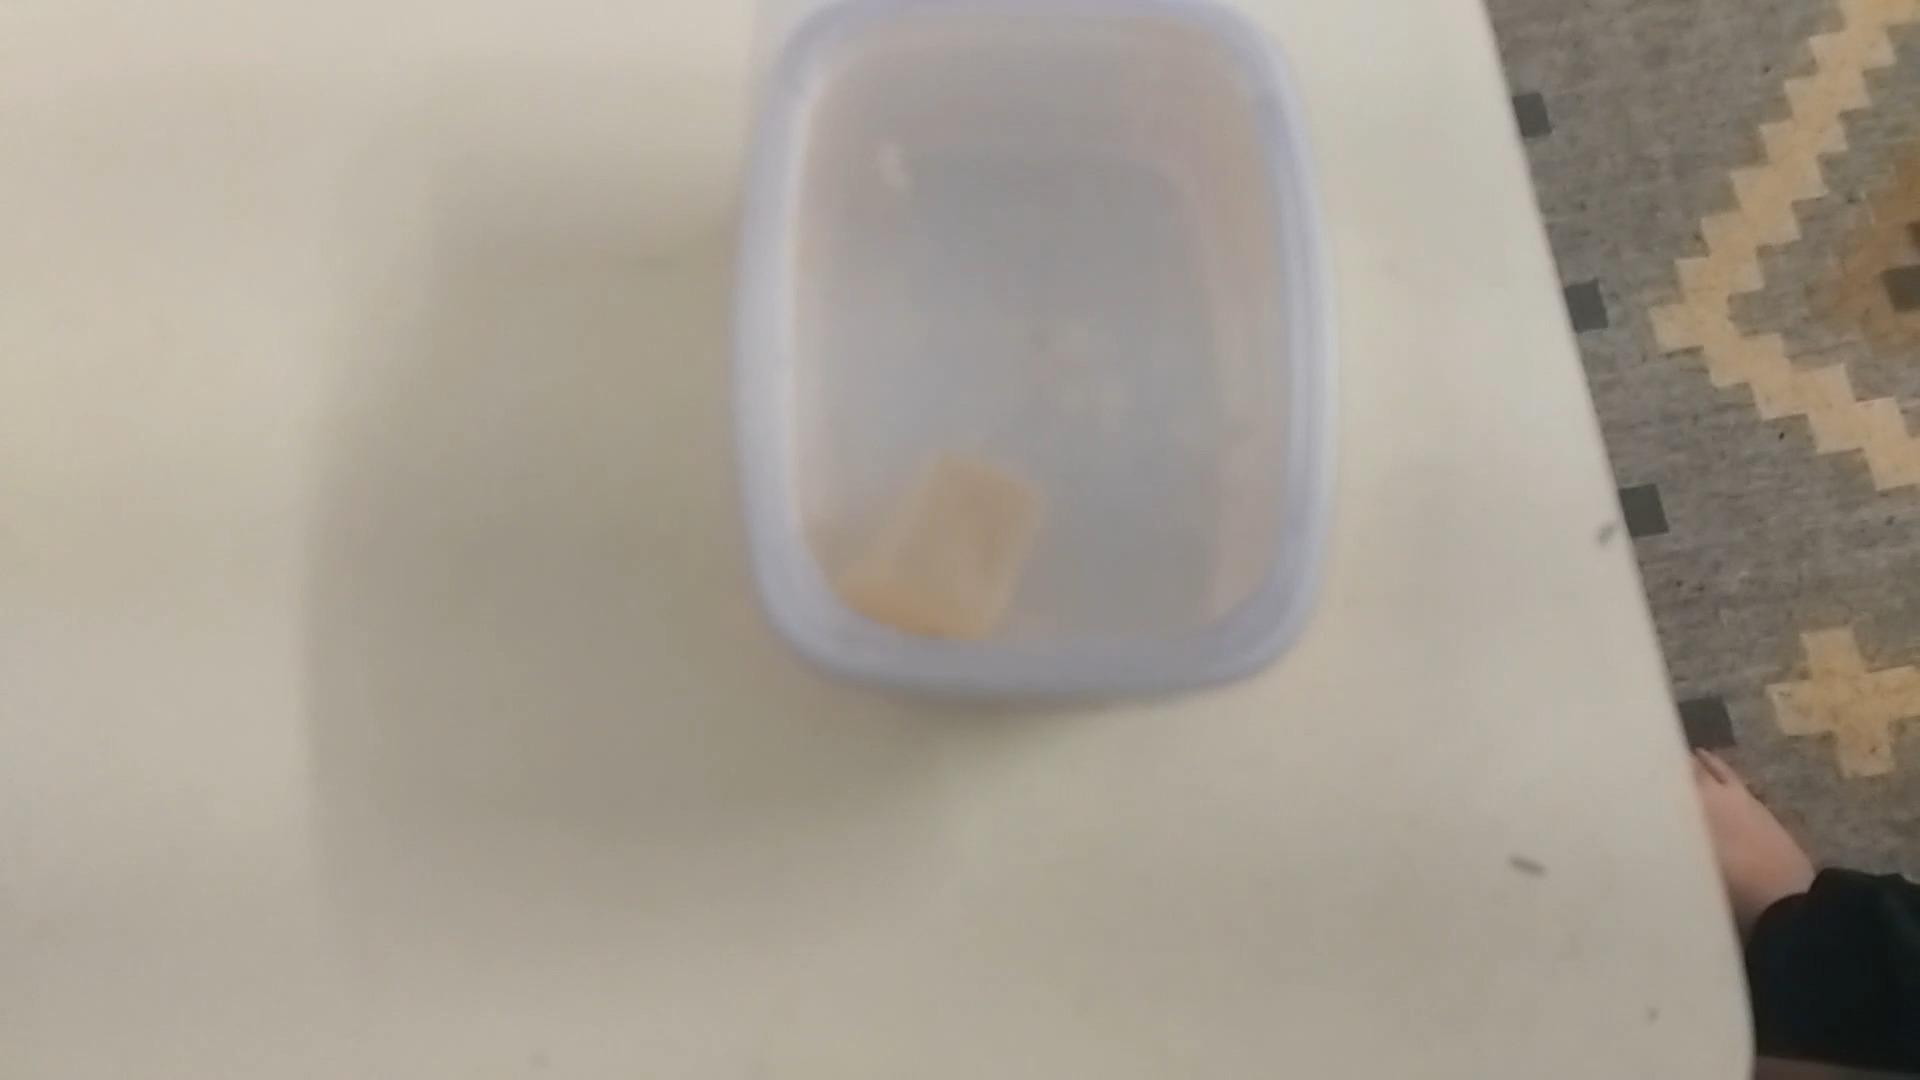butter: (737, 0, 1320, 703)
